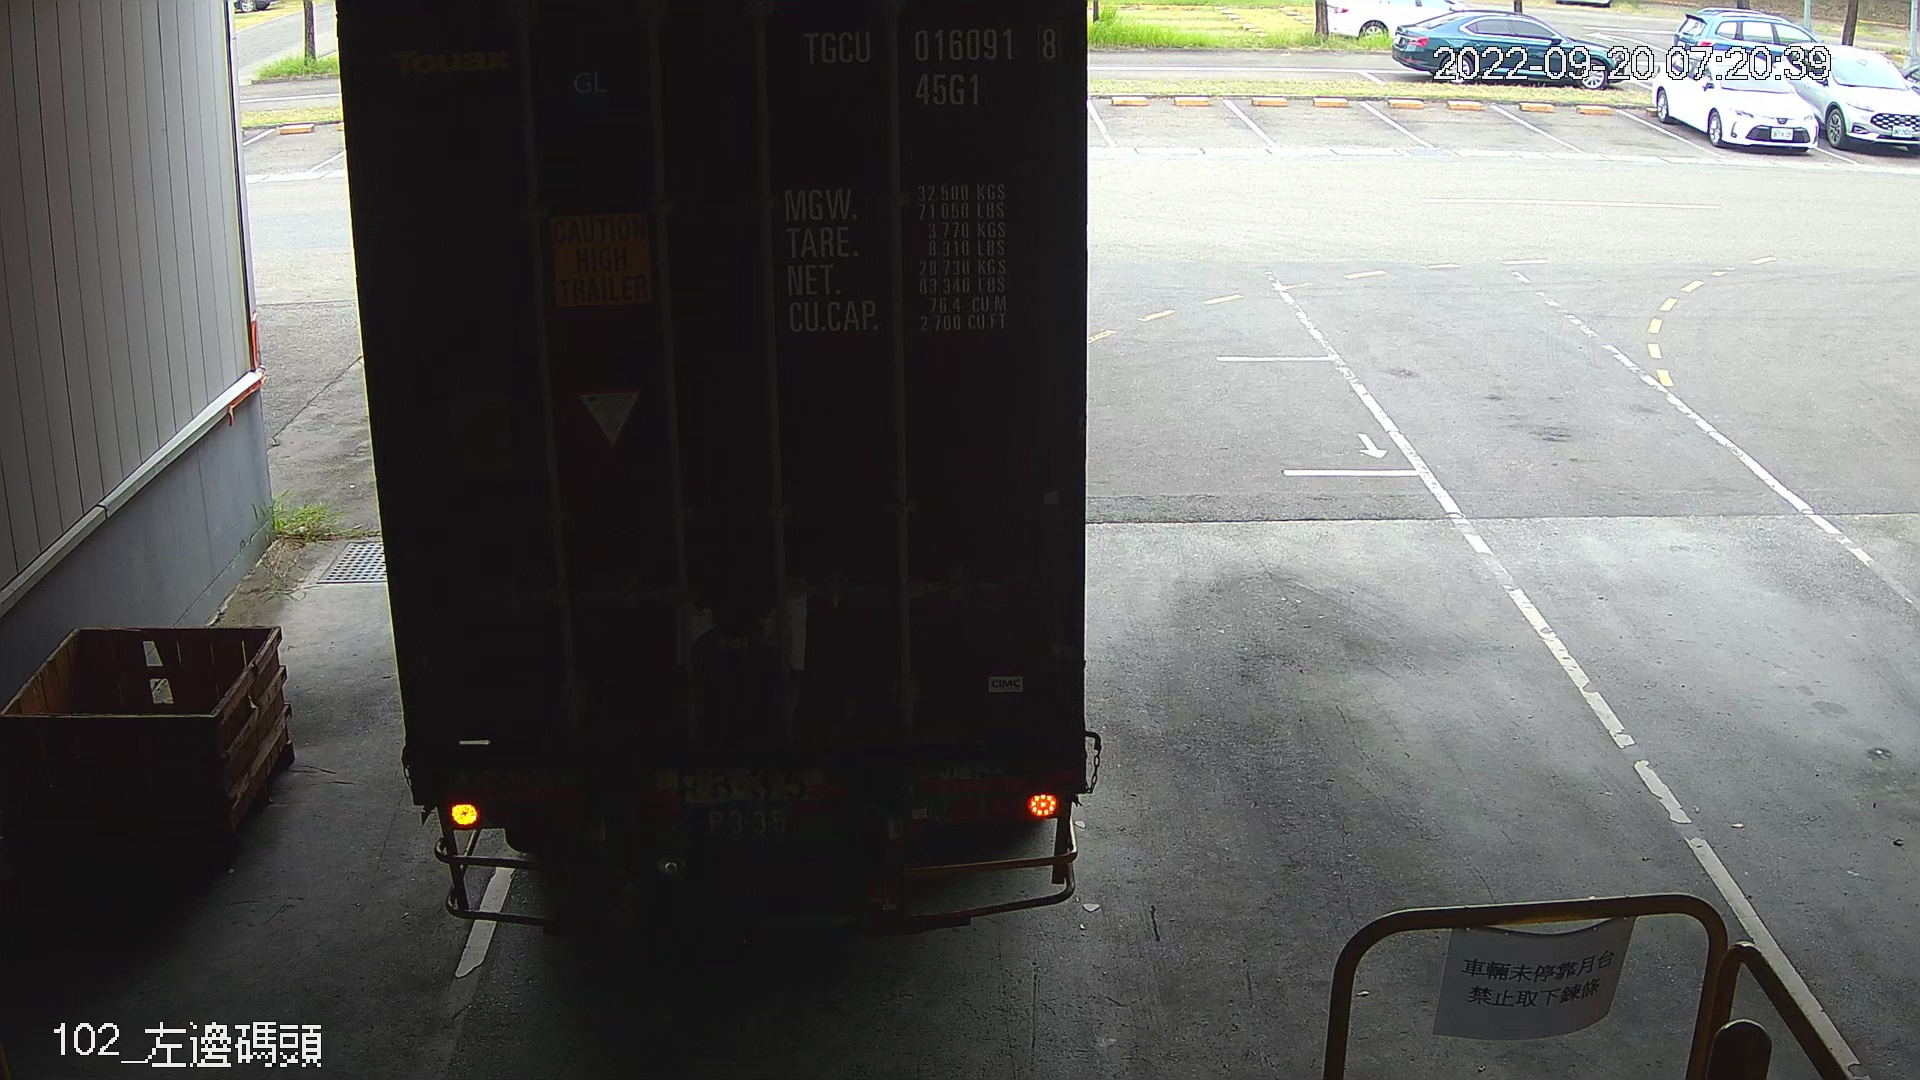container: (793, 18, 1069, 116)
